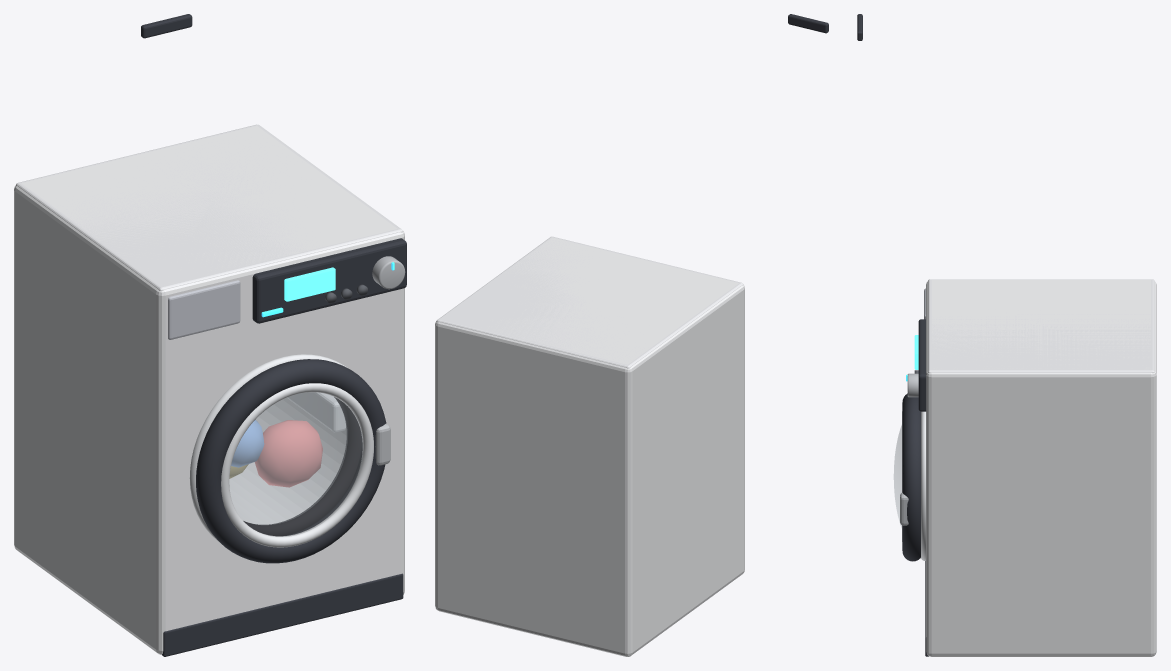
Rendered from washer.glb.
The picture shows the model from 3 angles, left to right: view 1: azimuth 30°, elevation 25°; view 2: azimuth 150°, elevation 25°; view 3: azimuth 270°, elevation 25°; orthographic projection. The views are drawn at different scales.
Visible parts, largest first — view 1: Body, DoorGlass, TopPanel, DoorFrame, BaseKick, ControlPanel, DoorChromeRing, Cloth_0, DetergentDrawer, SealRing, FrontRing, Paddle_0 (+5 smaller); view 2: Body, TopPanel; view 3: Body, TopPanel, DoorFrame, ControlPanel, FrontRing, DoorGlass.
Part boxes in pixels (x1=…): Body: x1=14, y1=126, x2=404, y2=654; DoorGlass: x1=229, y1=392, x2=363, y2=536; TopPanel: x1=16, y1=124, x2=403, y2=291; DoorFrame: x1=196, y1=359, x2=386, y2=563; BaseKick: x1=162, y1=573, x2=403, y2=656; ControlPanel: x1=252, y1=238, x2=406, y2=323; DoorChromeRing: x1=221, y1=383, x2=373, y2=547; Cloth_0: x1=255, y1=420, x2=322, y2=487; DetergentDrawer: x1=168, y1=280, x2=240, y2=339; SealRing: x1=243, y1=397, x2=361, y2=536; FrontRing: x1=189, y1=354, x2=347, y2=542; Paddle_0: x1=287, y1=392, x2=345, y2=432; Body: x1=435, y1=237, x2=744, y2=656; TopPanel: x1=436, y1=236, x2=743, y2=368; Body: x1=926, y1=280, x2=1156, y2=656; TopPanel: x1=928, y1=279, x2=1154, y2=373; DoorFrame: x1=902, y1=393, x2=920, y2=561; ControlPanel: x1=918, y1=319, x2=926, y2=411; FrontRing: x1=921, y1=411, x2=925, y2=560; DoorGlass: x1=894, y1=425, x2=901, y2=527.
Size of the model in its own units: 0.745 by 1.59 by 0.8045.
